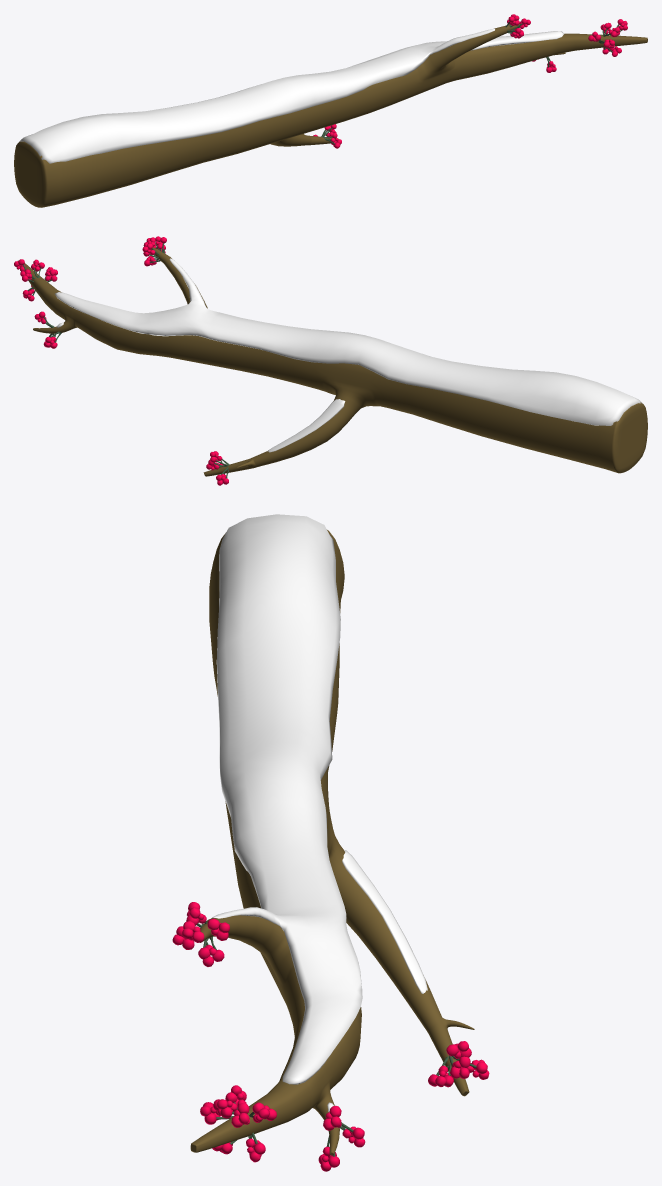
Rendered from Branch_Winter.fbx.
The picture shows the model from 3 angles, top to bottom: view 1: azimuth 30°, elevation 25°; view 2: azimuth 150°, elevation 25°; view 3: azimuth 270°, elevation 25°; orthographic projection. The views are drawn at different scales.
Parts seen in each view (by area): view 1: pCube10, pCube11, pCube39; view 2: pCube10, pCube11, pCube39; view 3: pCube11, pCube10, pCube39.
Boxes of the visible parts, <box> form: pCube10: <box>14,24,647,207</box>; pCube11: <box>19,28,563,163</box>; pCube39: <box>313,14,627,148</box>; pCube10: <box>18,247,647,476</box>; pCube11: <box>55,258,642,452</box>; pCube39: <box>14,236,229,485</box>; pCube11: <box>211,514,427,1112</box>; pCube10: <box>190,530,474,1155</box>; pCube39: <box>172,902,489,1171</box>.
Size of the model in its own units: 23.42 by 5.6 by 5.37.
